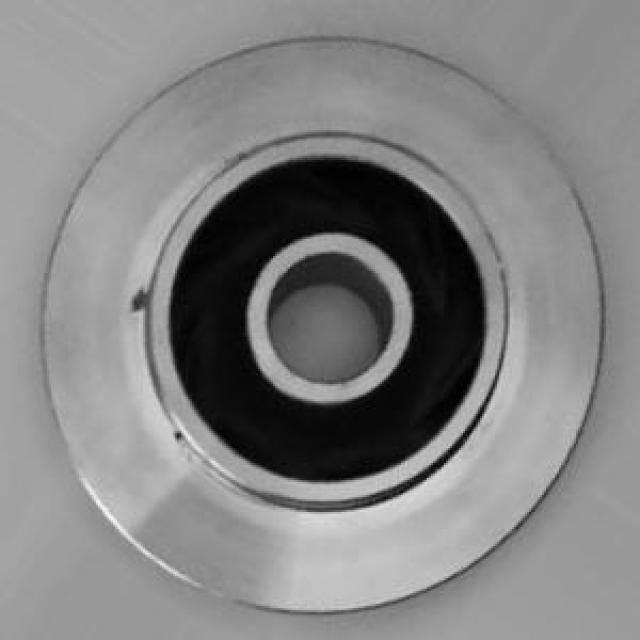Defect: (122, 280, 158, 321)
